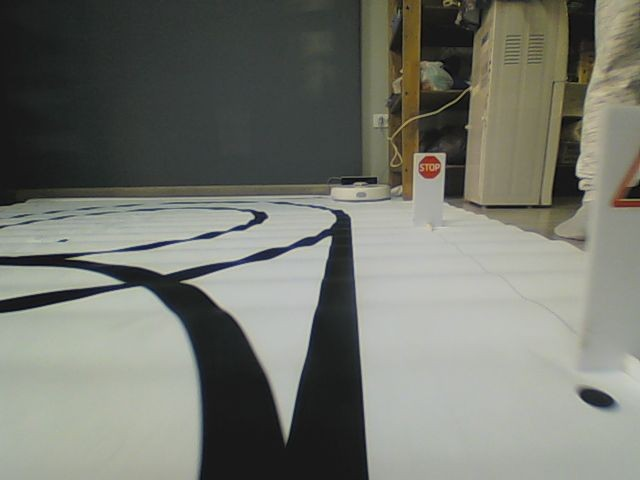Stop: (417, 154, 443, 181)
